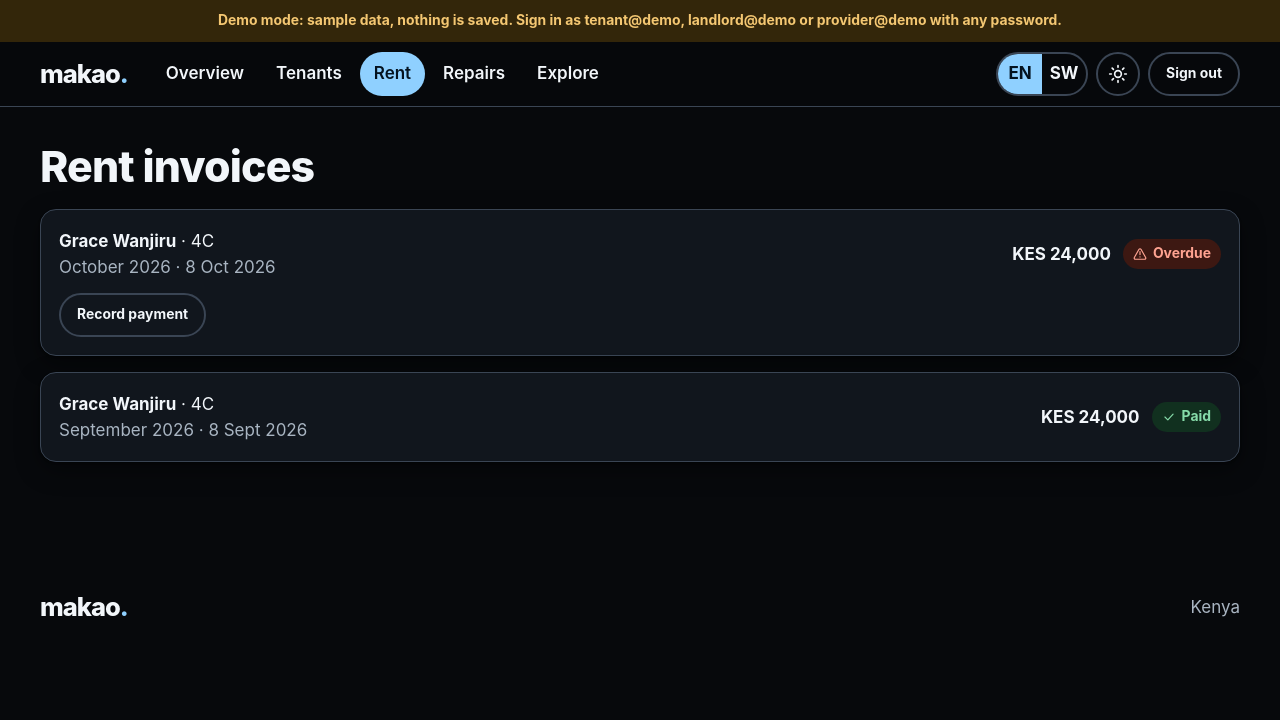
landlord screens › rent page: recording a payment uses labelled fields and updates the status
Click the button "Record payment". click: (133, 315)
box: [59,293,206,337]
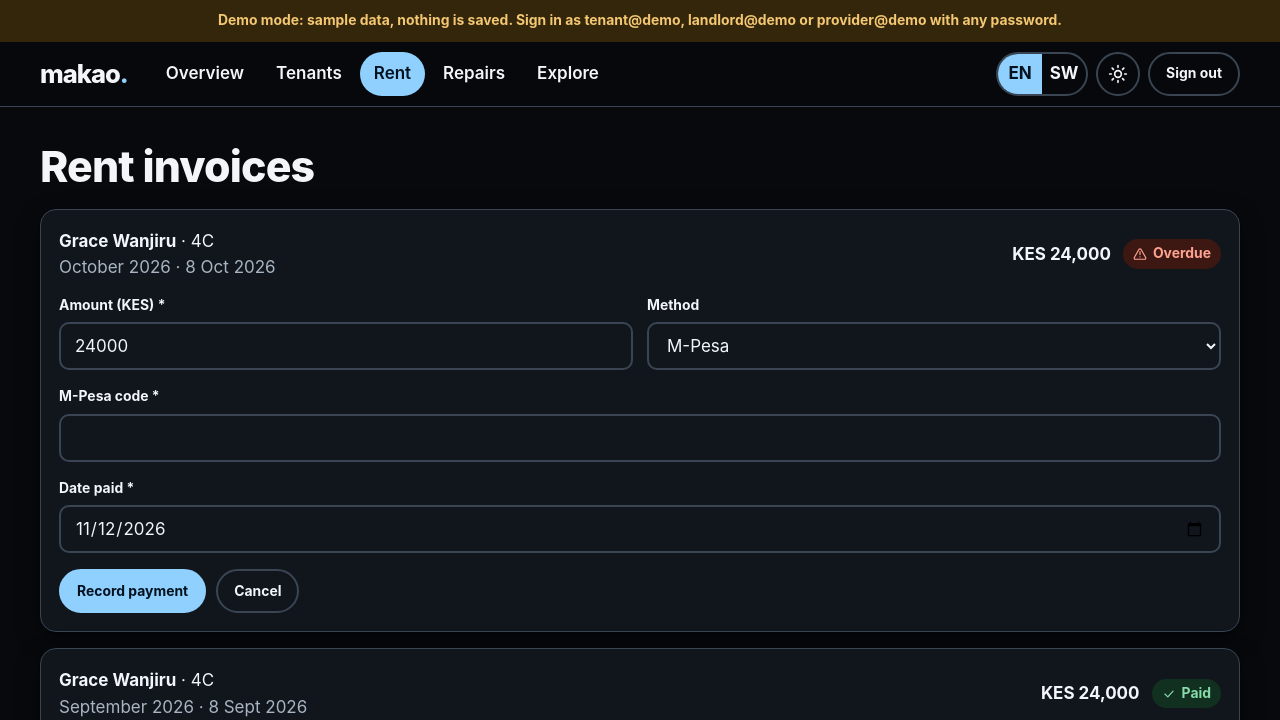
expect the number field labelled "Amount (KES) *" is shown: met, box [59,322,633,370]
expect the field labelled "M-Pesa code *" is shown: met, box [59,414,1221,462]
